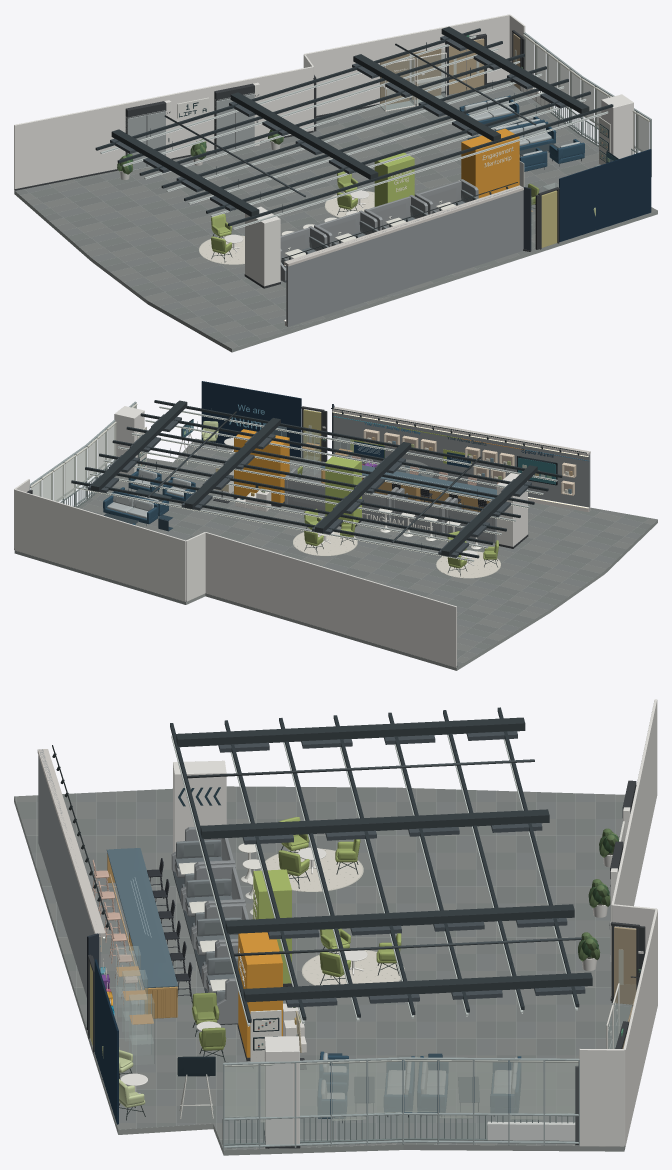
The model's file is viewer-alumni-lounge.glb.
3 views of the same model, one above another, from view 1: azimuth 30°, elevation 25°; view 2: azimuth 150°, elevation 25°; view 3: azimuth 270°, elevation 25° (orthographic). The views are drawn at different scales.
Visible parts, largest first — view 1: alumni-lounge-architecture-007, alumni-lounge-architecture-168, alumni-lounge-ceiling-095, alumni-lounge-ground-049, alumni-lounge-ground-159, alumni-lounge-ground-157, alumni-lounge-ground-121, alumni-lounge-ground-078, alumni-lounge-ceiling-052, alumni-lounge-architecture-074, alumni-lounge-ceiling-133, alumni-lounge-ground-099 (+24 smaller); view 2: alumni-lounge-architecture-007, alumni-lounge-ceiling-095, alumni-lounge-architecture-168, alumni-lounge-ground-121, alumni-lounge-ground-159, alumni-lounge-ground-049, alumni-lounge-ground-157, alumni-lounge-ground-078, alumni-lounge-ceiling-133, alumni-lounge-ceiling-052, alumni-lounge-architecture-074, alumni-lounge-ground-099 (+26 smaller); view 3: alumni-lounge-architecture-046, alumni-lounge-ground-121, alumni-lounge-ground-049, alumni-lounge-ground-159, alumni-lounge-ground-157, alumni-lounge-ground-078, alumni-lounge-architecture-007, alumni-lounge-ceiling-052, alumni-lounge-architecture-114, alumni-lounge-ground-099, alumni-lounge-ceiling-095, alumni-lounge-ceiling-010 (+34 smaller).
Boxes of the visible parts, x1,y1,x2,y2 form: alumni-lounge-architecture-007: (14,14,633,286); alumni-lounge-architecture-168: (286,186,523,326); alumni-lounge-ceiling-095: (95,28,613,226); alumni-lounge-ground-049: (26,84,599,348); alumni-lounge-ground-159: (20,83,657,347); alumni-lounge-ground-157: (15,82,597,343); alumni-lounge-ground-121: (30,81,646,345); alumni-lounge-ground-078: (24,89,598,341); alumni-lounge-ceiling-052: (111,26,589,216); alumni-lounge-architecture-074: (559,149,651,241); alumni-lounge-ceiling-133: (100,35,608,229); alumni-lounge-ground-099: (14,82,657,352); alumni-lounge-architecture-007: (14,406,527,667); alumni-lounge-ceiling-095: (71,400,562,558); alumni-lounge-architecture-168: (333,407,590,510); alumni-lounge-ground-121: (77,443,649,658); alumni-lounge-ground-159: (82,438,656,662); alumni-lounge-ground-049: (89,445,657,658); alumni-lounge-ground-157: (82,443,651,666); alumni-lounge-ground-078: (77,441,642,653); alumni-lounge-ceiling-133: (76,406,557,561); alumni-lounge-ceiling-052: (91,400,537,556); alumni-lounge-architecture-074: (201,381,301,457); alumni-lounge-ground-099: (14,443,657,670); alumni-lounge-architecture-046: (225,1060,577,1145); alumni-lounge-ground-121: (16,786,623,1149); alumni-lounge-ground-049: (14,787,628,1148); alumni-lounge-ground-159: (16,786,625,1145); alumni-lounge-ground-157: (16,786,632,1147); alumni-lounge-ground-078: (32,786,622,1149); alumni-lounge-architecture-007: (173,699,657,1146); alumni-lounge-ceiling-052: (176,717,592,1002); alumni-lounge-architecture-114: (224,1061,578,1121); alumni-lounge-ground-099: (14,787,625,1155); alumni-lounge-ceiling-095: (170,707,579,1022); alumni-lounge-ceiling-010: (218,731,585,1007).
Size of the model in its own units: 25.89 by 4.04 by 19.34.
